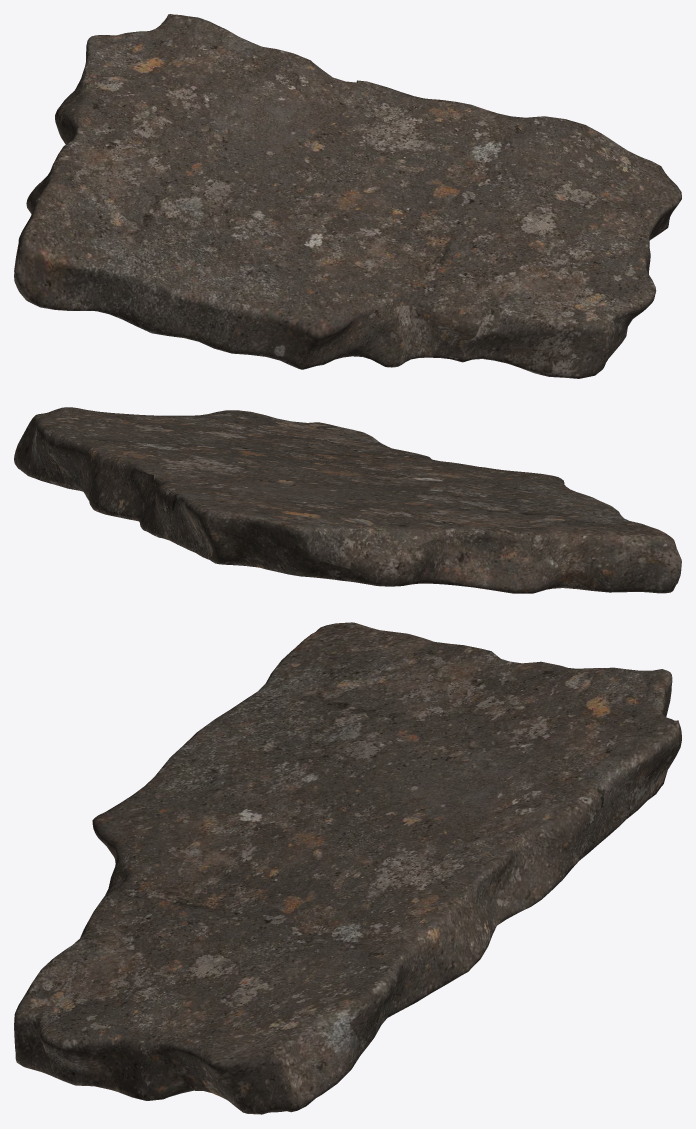
Rendered from rock2.glb.
3 renders of one model, top to bottom at view 1: azimuth 30°, elevation 25°; view 2: azimuth 150°, elevation 25°; view 3: azimuth 270°, elevation 25°, orthographic. The views are drawn at different scales.
Parts seen in each view (by area): view 1: Volume Mesher.1_remesh; view 2: Volume Mesher.1_remesh; view 3: Volume Mesher.1_remesh.
Part boxes in pixels (x1=…): Volume Mesher.1_remesh: x1=14, y1=14, x2=681, y2=378; Volume Mesher.1_remesh: x1=14, y1=407, x2=681, y2=593; Volume Mesher.1_remesh: x1=14, y1=622, x2=681, y2=1114.
Bounding box in the file's own units: 105 × 32.22 × 77.94.
1 material, 1 textured.
